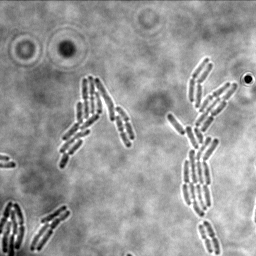Dividing: (203, 219, 222, 256), (198, 223, 215, 254)
Microcolony: (166, 57, 238, 217), (58, 75, 136, 170), (29, 204, 72, 252), (0, 200, 26, 256)
